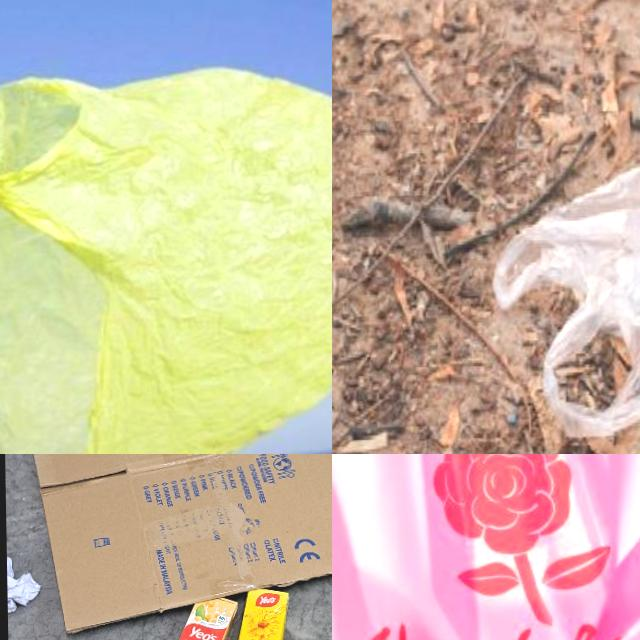caixinha: (163, 593, 239, 640), (234, 586, 290, 640)
papel: (6, 550, 40, 612)
papelão: (6, 454, 332, 634)
sacola plástica: (0, 69, 332, 454), (332, 454, 640, 640), (481, 100, 640, 454)
